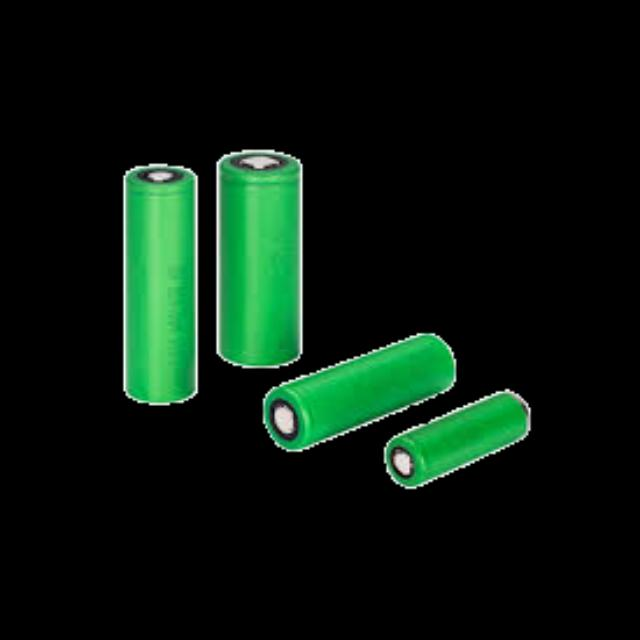Battery: (261, 333, 458, 454)
